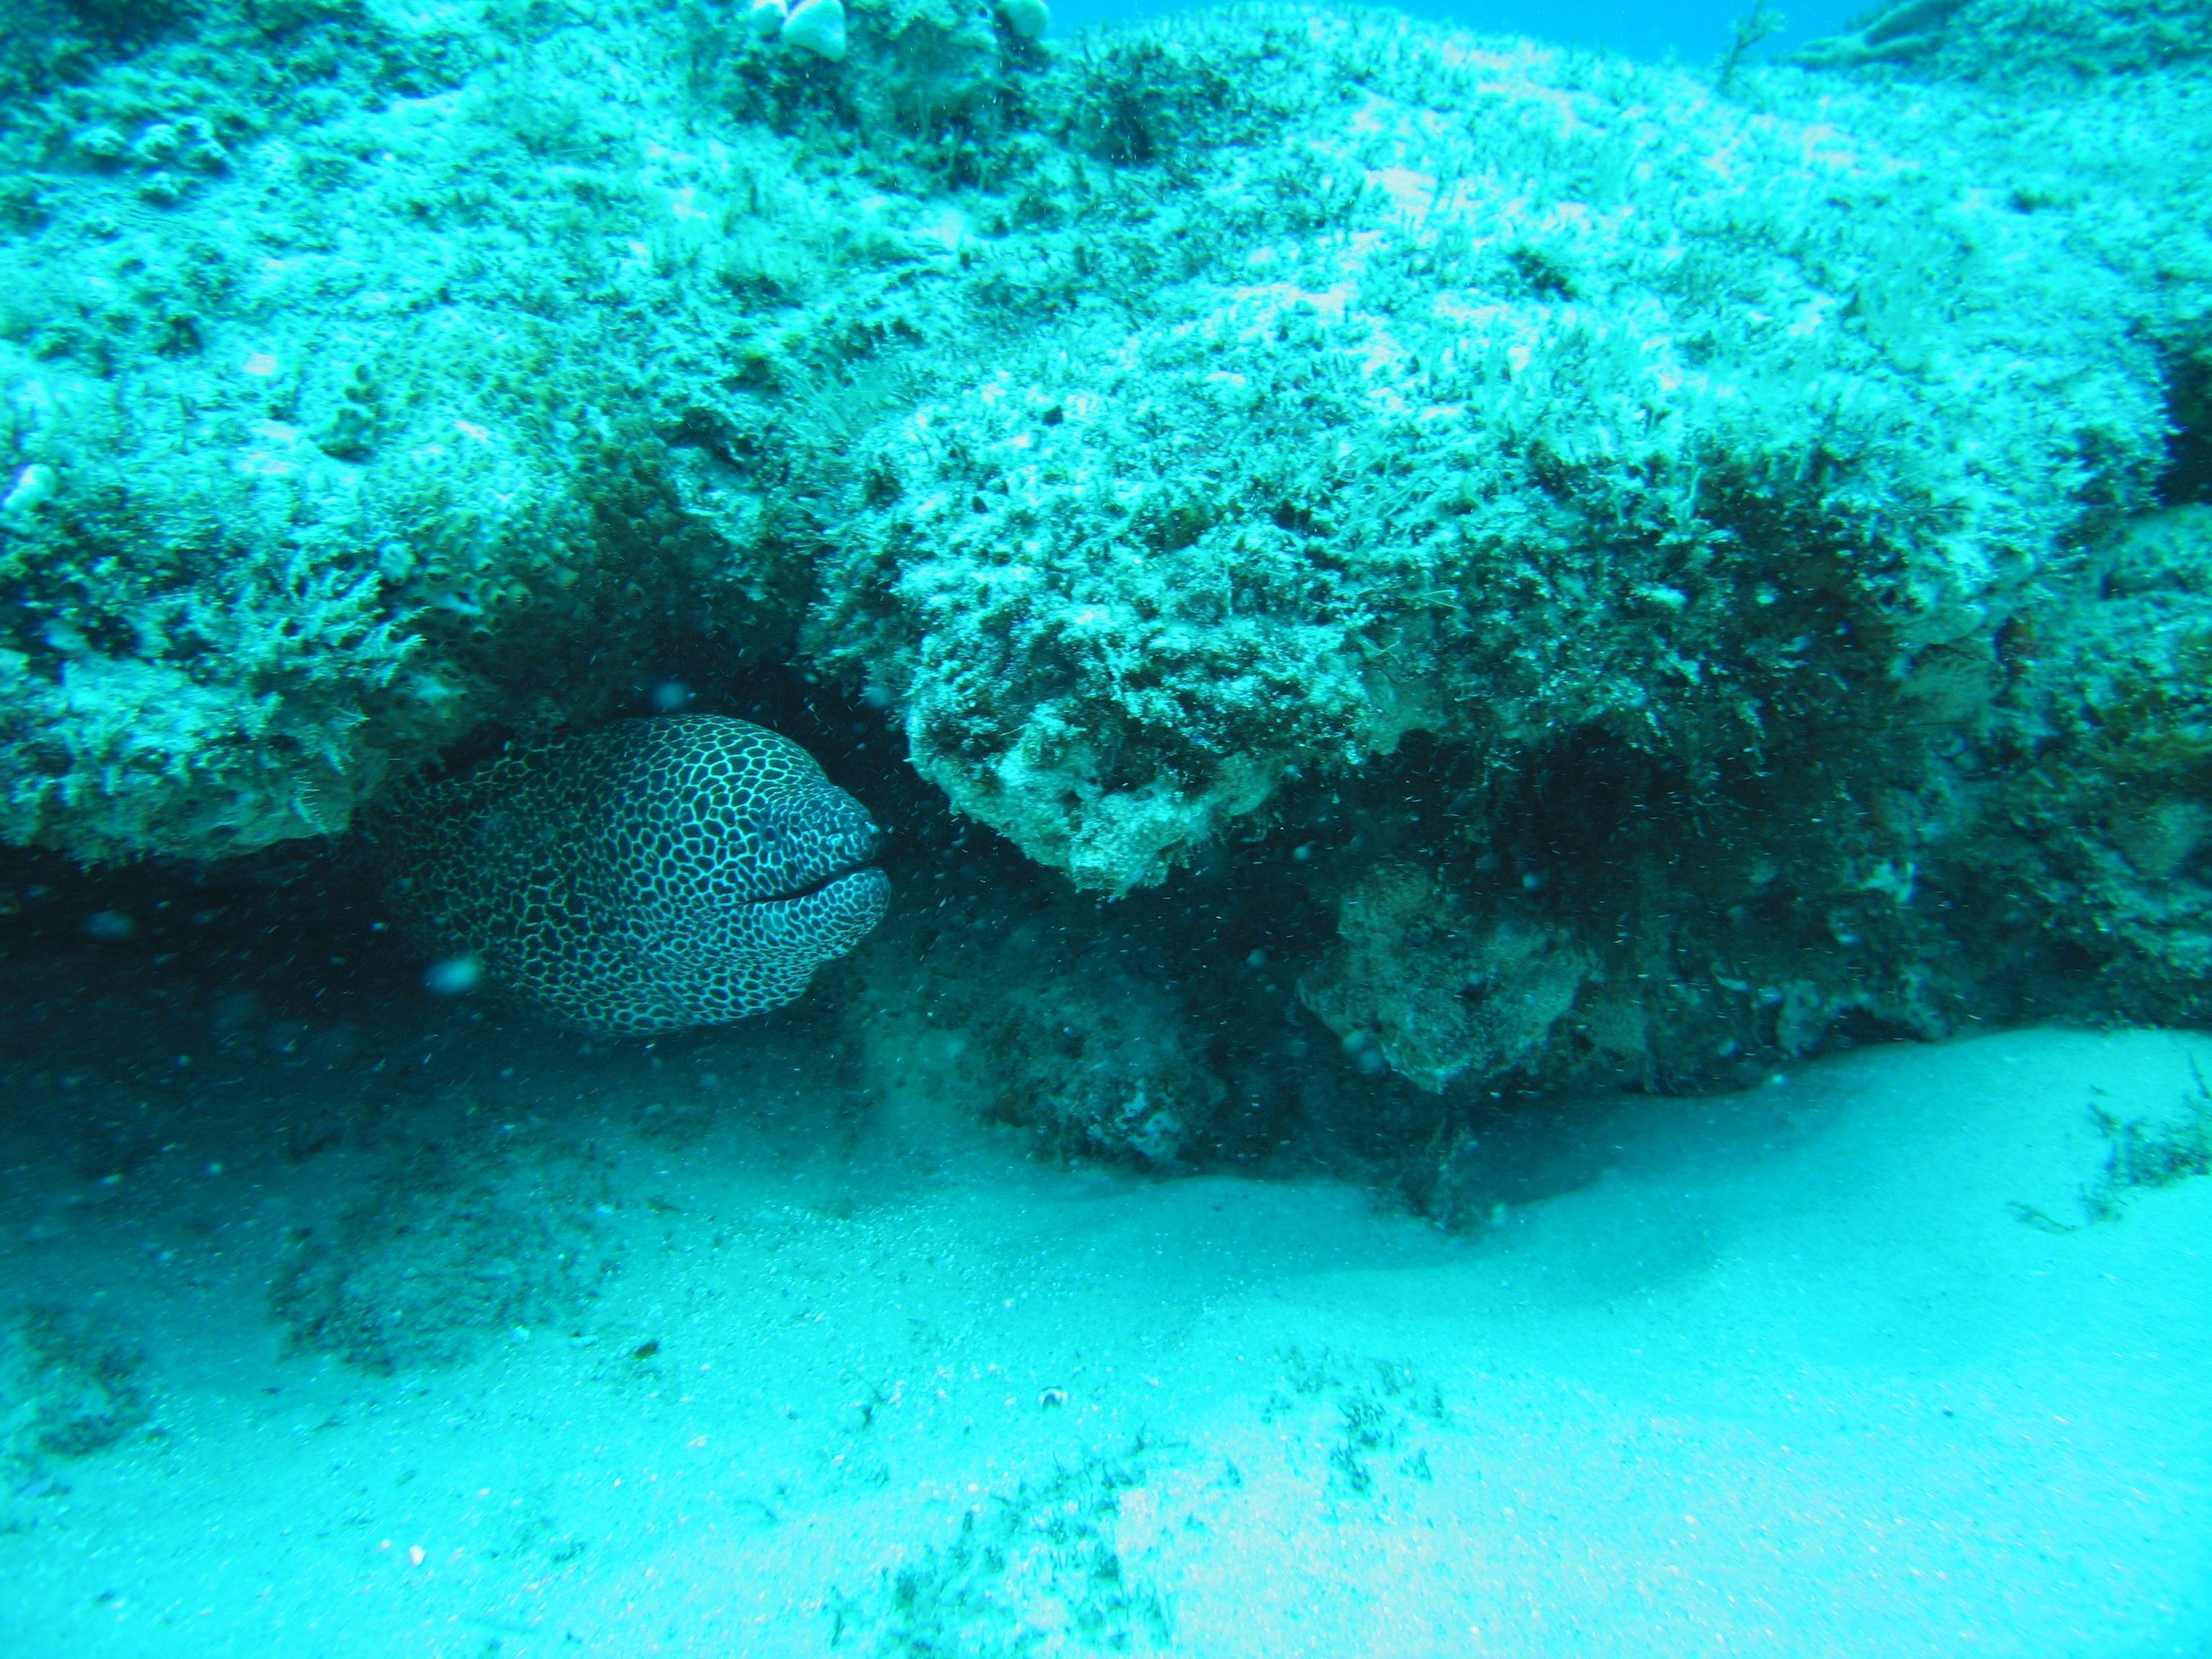Fish: (273, 688, 900, 1070)
